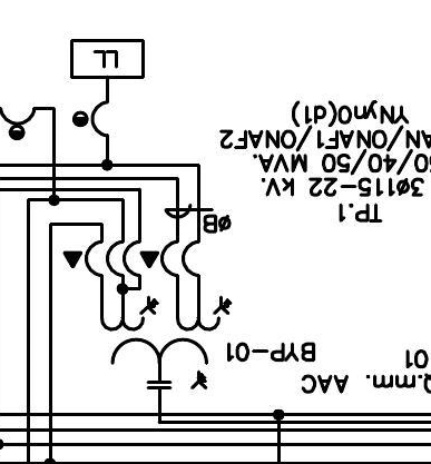115_cvt_3p: (99, 295, 233, 390)
LL: (70, 38, 145, 80)
